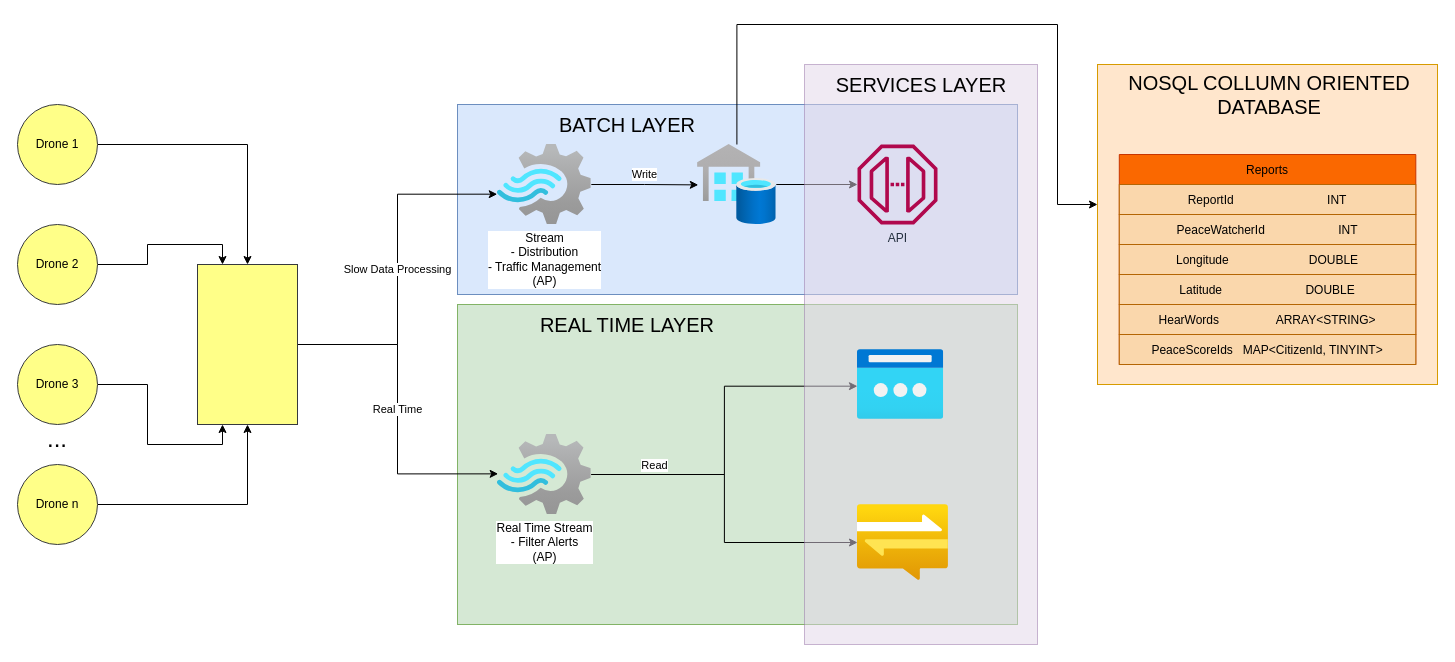
This 1455x662 diagram has some shape labels left out. Each missing label, with the centre of its shape:
"Entry Point" goes at (x=247, y=344).
"NoSQL Data Warehouse" goes at (x=736, y=184).
"PeaceMakers Notification Hub" goes at (x=902, y=542).
"Web Interface for PeaceMakers" goes at (x=900, y=384).
